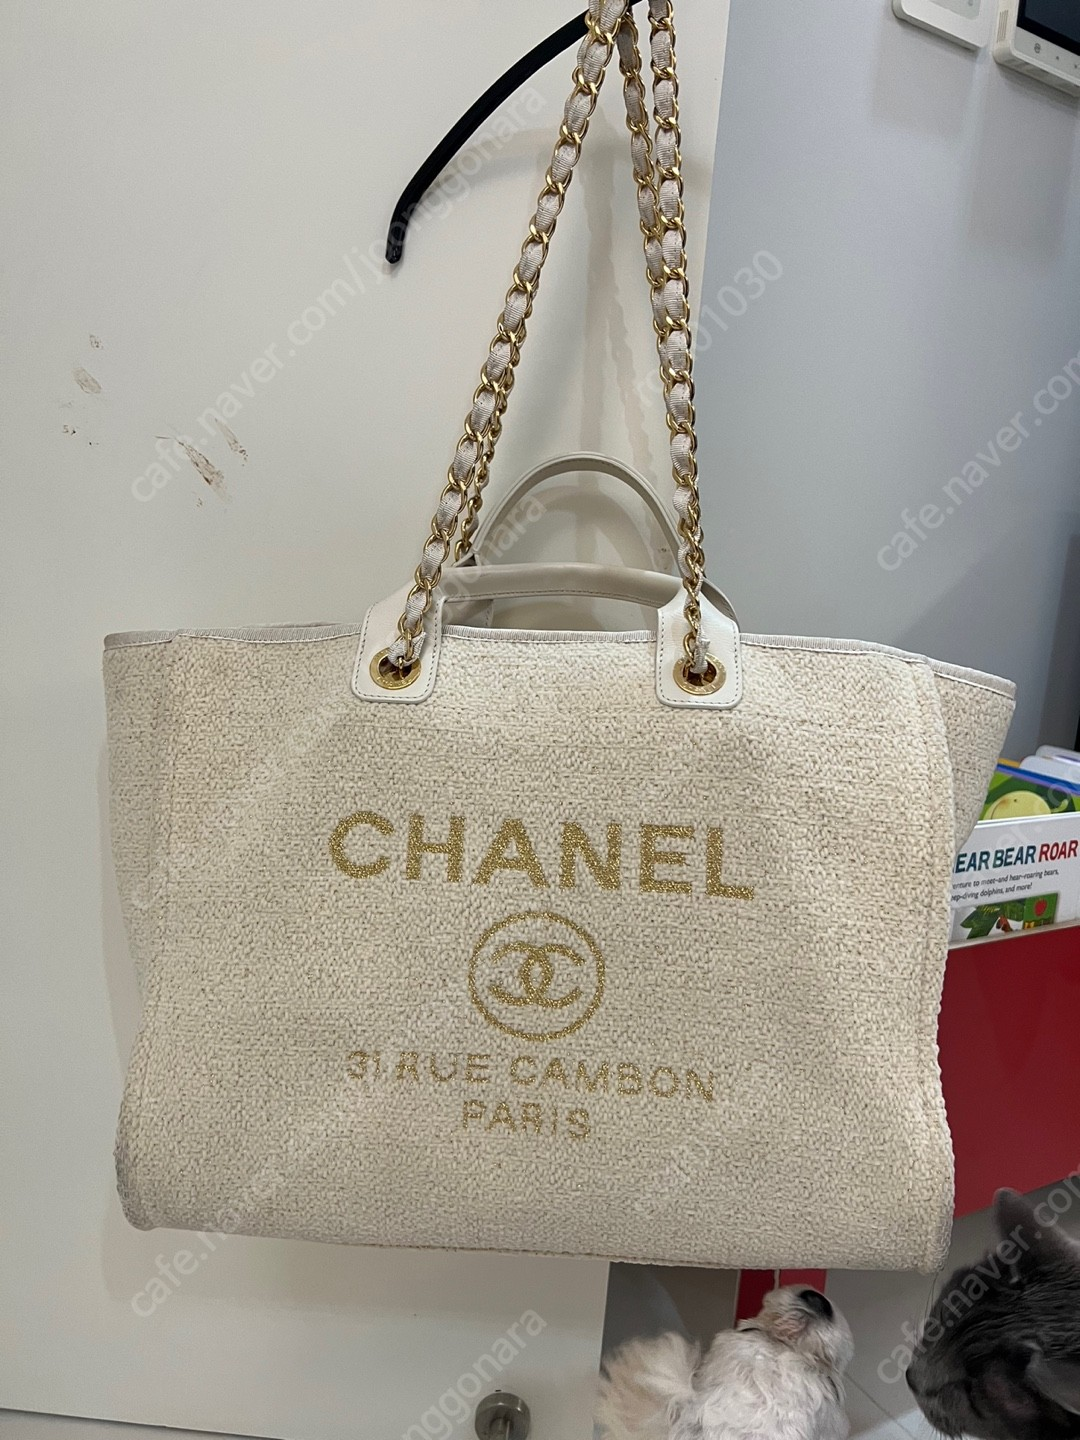channel: (92, 588, 1080, 1316), (357, 314, 529, 742), (304, 798, 791, 932), (417, 921, 628, 1045)
